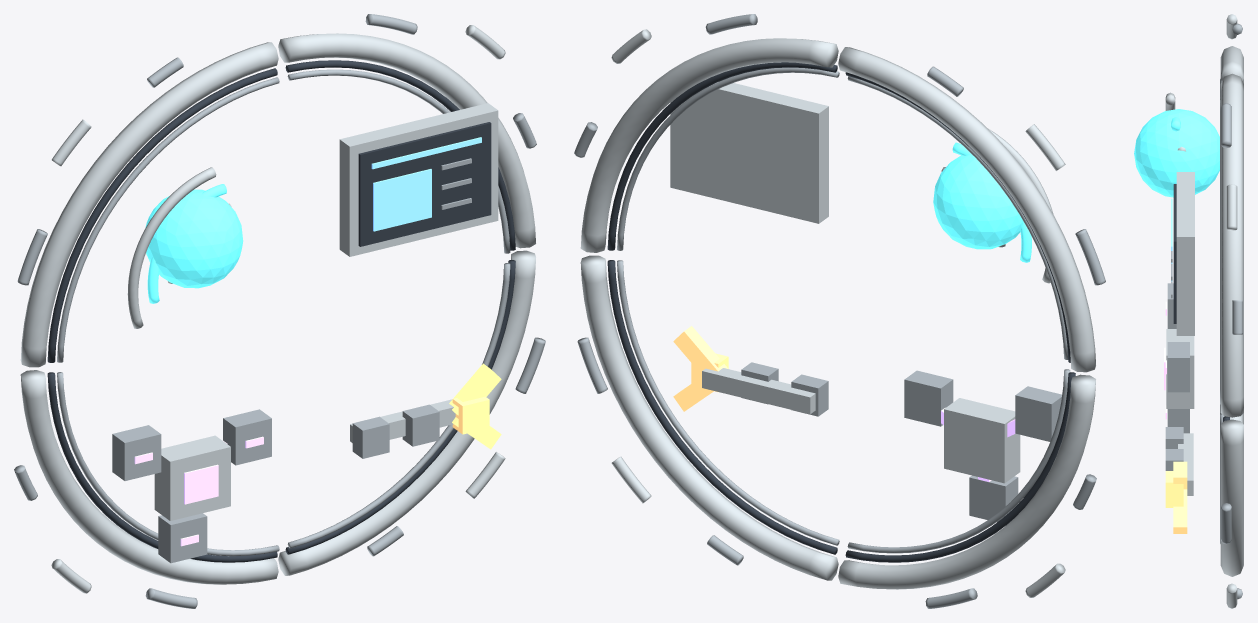
File: ag_breakup.glb
The picture shows the model from 3 angles, left to right: view 1: azimuth 30°, elevation 25°; view 2: azimuth 150°, elevation 25°; view 3: azimuth 270°, elevation 25°; orthographic projection. The views are drawn at different scales.
Visible parts, largest first — view 1: AG_BREAK / rim 02, AG_BREAK / rim 03, MODULE / interface / display glass, AG_BREAK / rim 01, AG_BREAK / rim 04, MODULE / interaction / spatial core, MODULE / interface / display frame, MODULE / services / central hub, AG_BREAK / groove 02, MODULE / interface / viewport, AG_BREAK / bead 02, AG_BREAK / groove 03 (+18 smaller); view 2: MODULE / interface / display frame, AG_BREAK / rim 04, AG_BREAK / rim 02, AG_BREAK / rim 01, AG_BREAK / rim 03, MODULE / interaction / spatial core, MODULE / services / central hub, AG_BREAK / groove 04, MODULE / delivery / timeline, AG_BREAK / bead 04, AG_BREAK / groove 01, AG_BREAK / groove 03 (+11 smaller); view 3: AG_BREAK / rim 01, MODULE / interaction / spatial core, AG_BREAK / rim 04, MODULE / interface / display frame, MODULE / services / satellite 2, MODULE / services / central hub, AG_BREAK / rim 02, MODULE / delivery / timeline, MODULE / delivery / stage 3, MODULE / interface / display glass, AG_BREAK / splinter 01 02, MODULE / delivery / arrow lower (+12 smaller).
Boxes of the visible parts, x1,y1,x2,y2 form: AG_BREAK / rim 02: (20,42,278,367); AG_BREAK / rim 03: (20,370,278,584); MODULE / interface / display glass: (358,122,491,246); AG_BREAK / rim 01: (278,33,535,248); AG_BREAK / rim 04: (278,250,535,575); MODULE / interaction / spatial core: (145,189,243,288); MODULE / interface / display frame: (339,103,498,256); MODULE / services / central hub: (154,435,230,520); AG_BREAK / groove 02: (47,68,277,362); MODULE / interface / viewport: (373,169,431,231); AG_BREAK / bead 02: (57,77,279,362); AG_BREAK / groove 03: (47,372,277,562); MODULE / interface / display frame: (670,82,828,223); AG_BREAK / rim 04: (580,255,838,580); AG_BREAK / rim 02: (838,47,1095,372); AG_BREAK / rim 01: (580,38,838,252); AG_BREAK / rim 03: (838,374,1095,589); MODULE / interaction / spatial core: (933,154,1023,249); MODULE / services / central hub: (944,398,1020,483); AG_BREAK / groove 04: (607,260,837,554); MODULE / delivery / timeline: (702,368,815,414); AG_BREAK / bead 04: (617,260,839,545); AG_BREAK / groove 01: (607,62,837,250); AG_BREAK / groove 03: (845,372,1075,562); AG_BREAK / rim 01: (1220,73,1243,417); MODULE / interaction / spatial core: (1134,109,1219,197); AG_BREAK / rim 04: (1220,419,1243,576); MODULE / interface / display frame: (1176,172,1194,335); MODULE / services / satellite 2: (1167,342,1189,392); MODULE / services / central hub: (1166,329,1194,408); AG_BREAK / rim 02: (1220,46,1243,83); MODULE / delivery / timeline: (1178,433,1193,495); MODULE / delivery / stage 3: (1165,471,1183,507); MODULE / interface / display glass: (1173,184,1176,323); AG_BREAK / splinter 01 02: (1226,184,1237,230); MODULE / delivery / arrow lower: (1173,489,1187,533).
Bounding box in the file's own units: 3.9 × 3.9 × 0.785.
